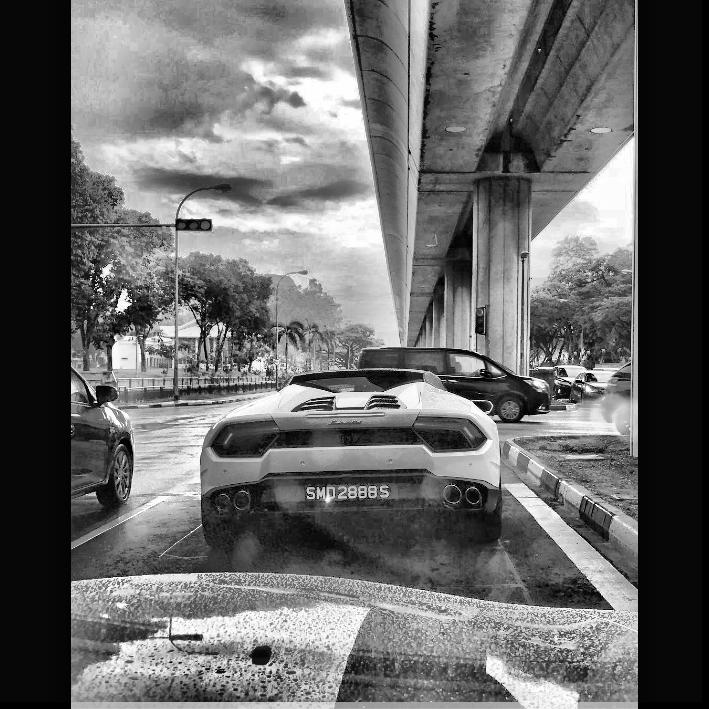License-Plates: (304, 483, 392, 500)
